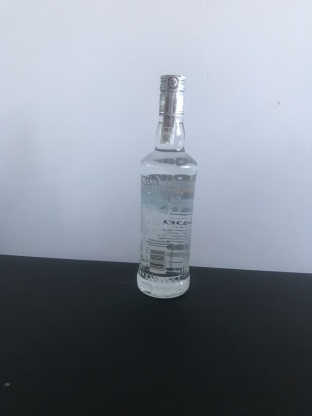nakretka: (157, 71, 187, 119)
